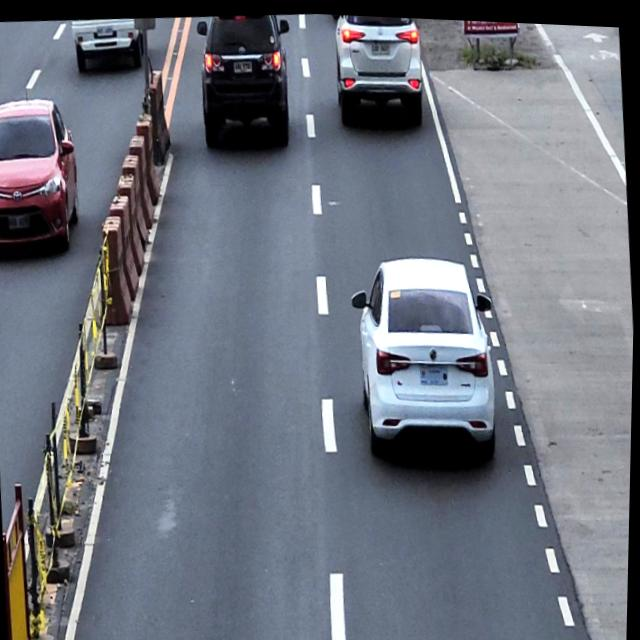Car: (347, 244, 503, 463), (193, 8, 297, 149), (0, 92, 83, 257), (330, 12, 427, 127), (70, 13, 158, 74)
License-Plate: (419, 355, 451, 385), (8, 211, 34, 230), (369, 35, 392, 54), (231, 55, 254, 71), (95, 22, 114, 37)
